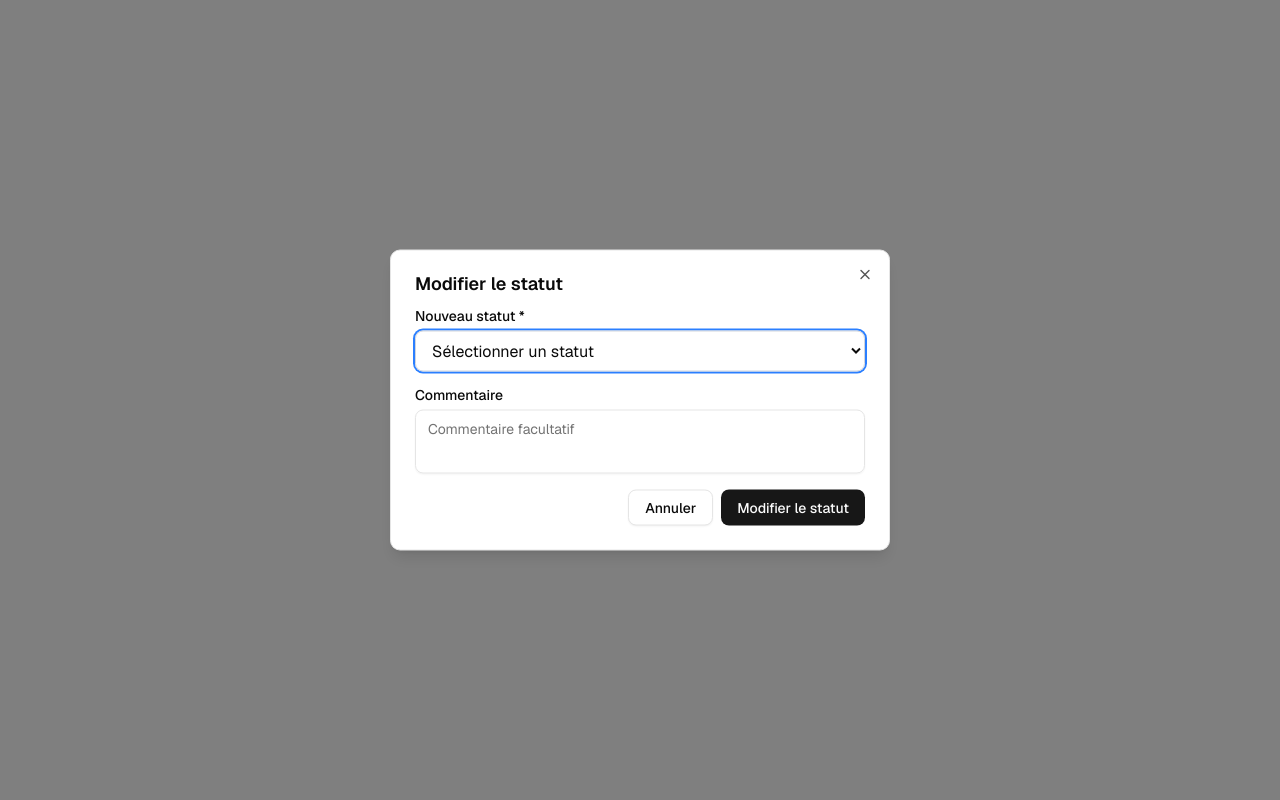
Test case: StatusModifierDialog › gère les erreurs inattendues
# Sélectionner un statut
Select "Validé" in the dropdown labelled "Nouveau statut *". click: (640, 351)
box: [415,330,865,372]
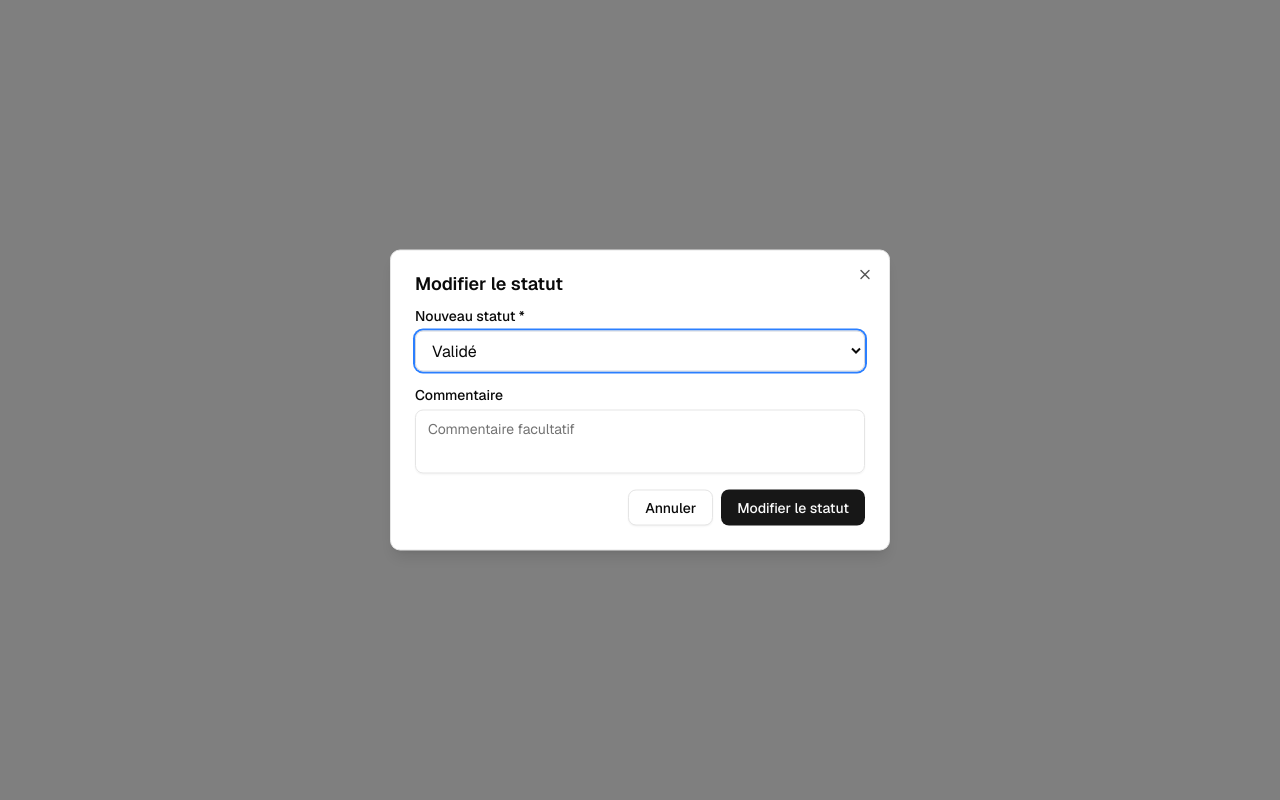
Click the button "Modifier le statut". click: (793, 508)
box: [721,490,865,526]
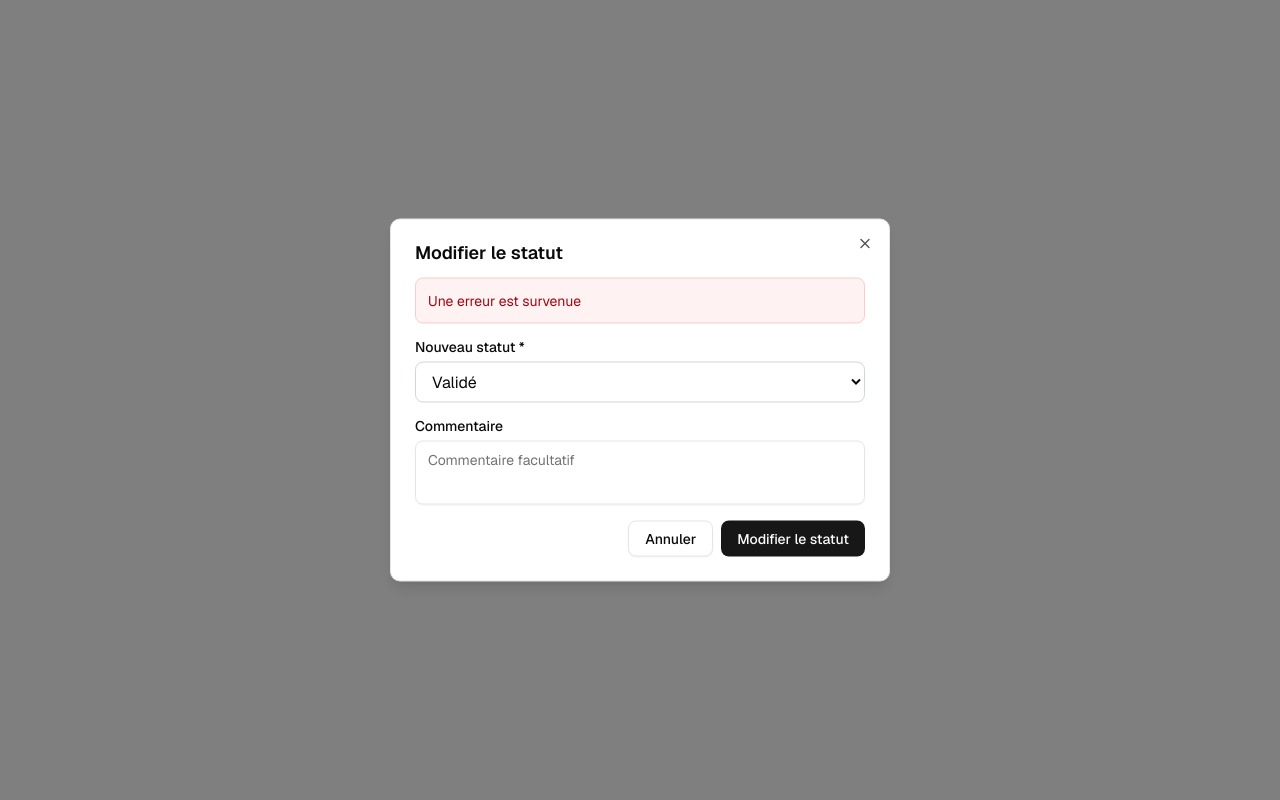
Result: the text "Une erreur est survenue" is shown at [415,278,865,324]
